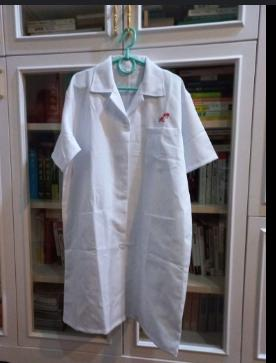lab_coat: (50, 53, 220, 357)
